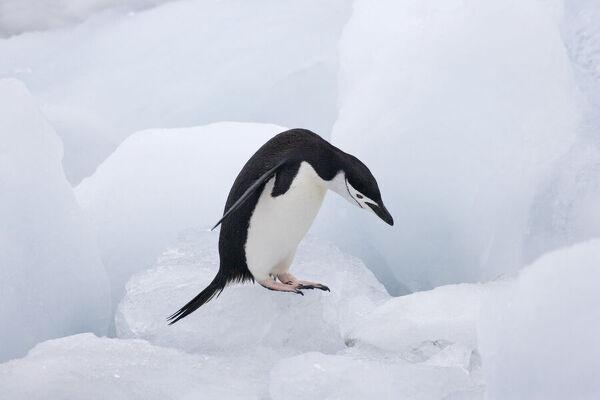chinstrap: (187, 116, 406, 347)
